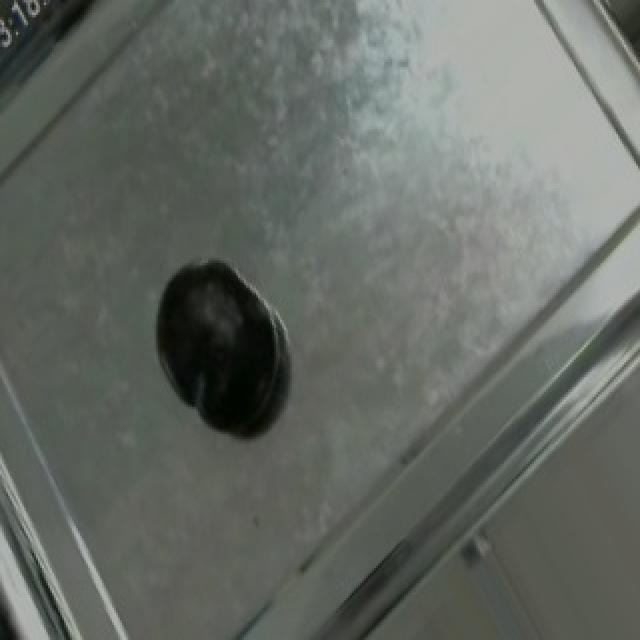Fruit: (132, 238, 296, 452)
